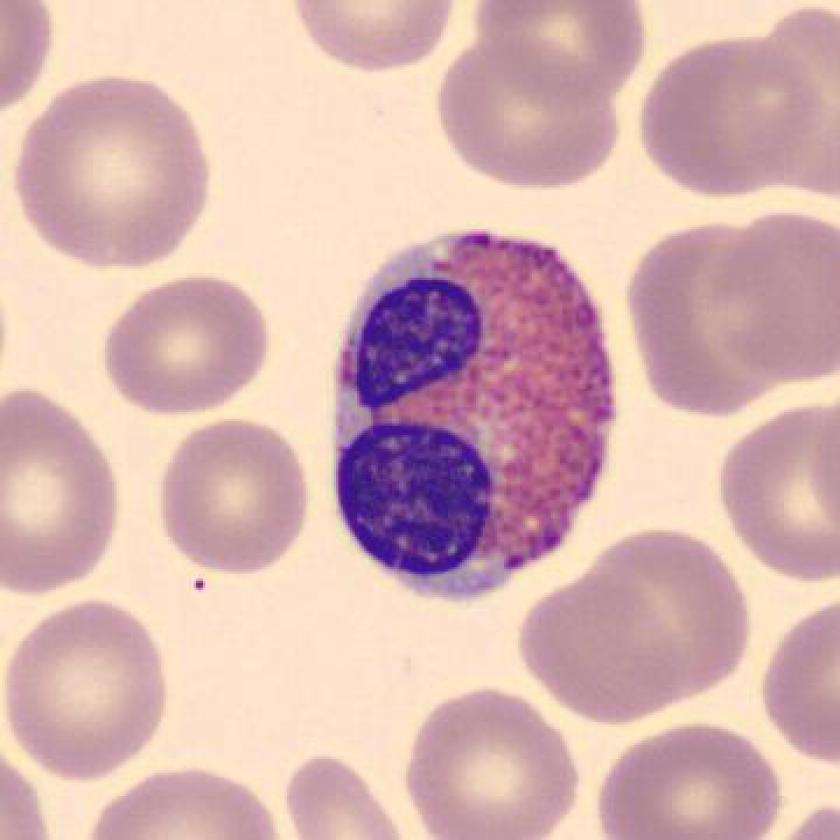eosinophil: (326, 216, 627, 621)
